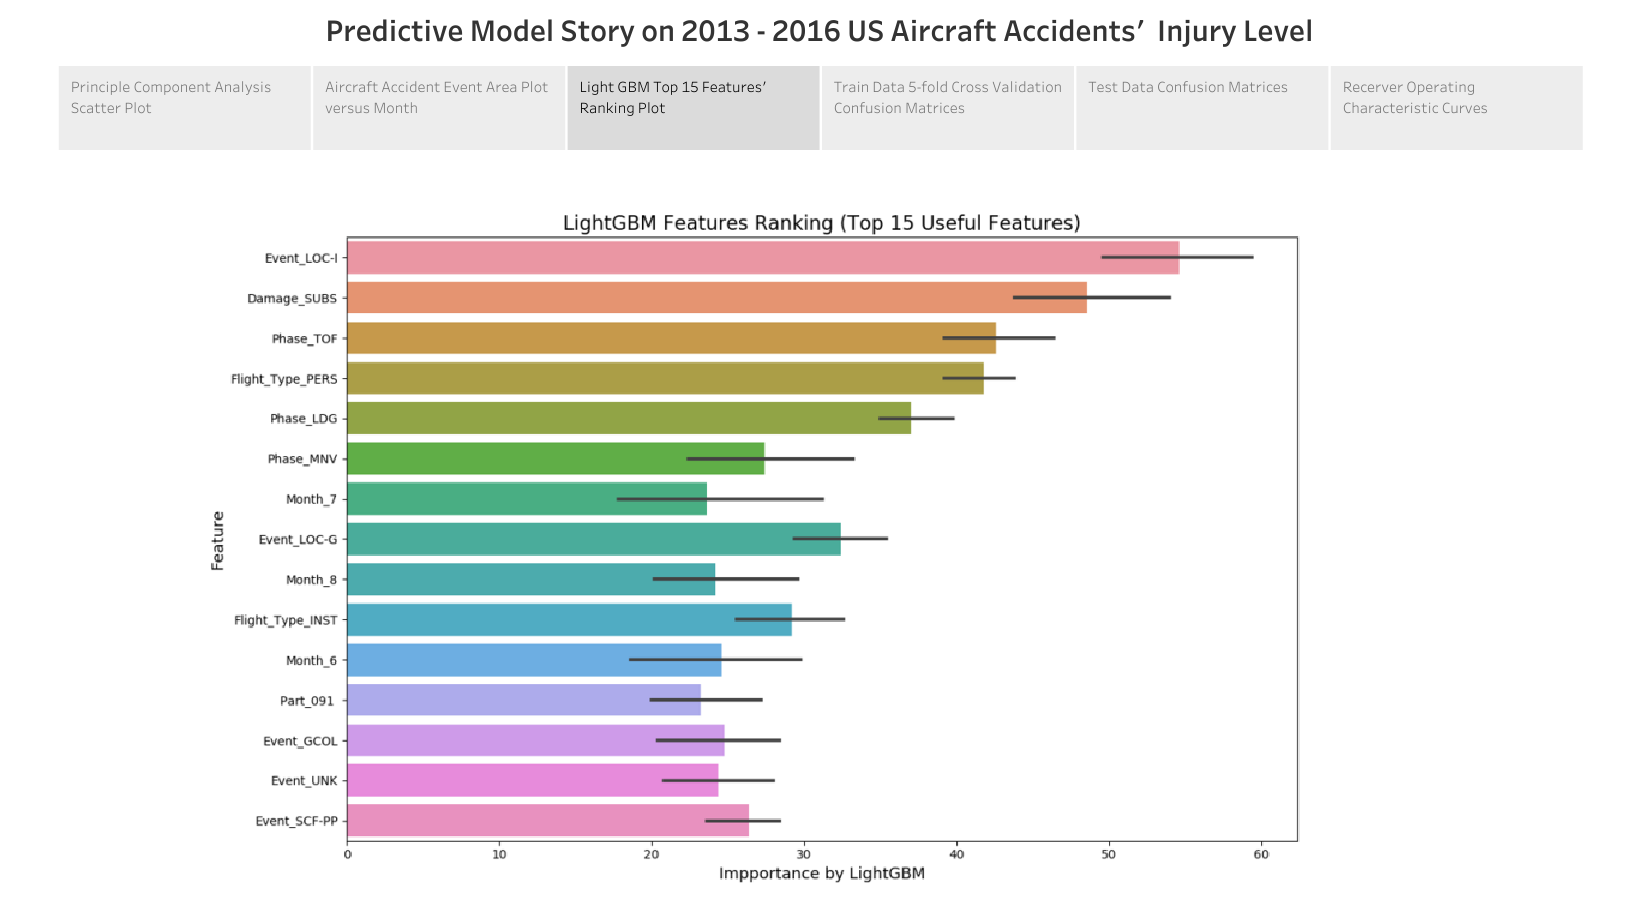

This screenshot's page, from the dashboard's own definition file:
{"tool":"tableau","page":{"name":"LGB Rank","canvas":[1266,668],"ordinal":1},"visuals":[{"type":"image","param":"C:/Users/Jimny/Desktop/Study/Fall 2019/ANLY 503/Project/LGB_Rank.png","box":[122,31,1009,572]}]}

Visuals, with their boxes on the page's 1266x668 design canvas (x1, y1, x2, y2). These are canvas units, not pixel positions in the 1638x920 screenshot, which may show the page scaled, cropped or inside an application window:
image: [x1=122, y1=31, x2=1131, y2=603]
